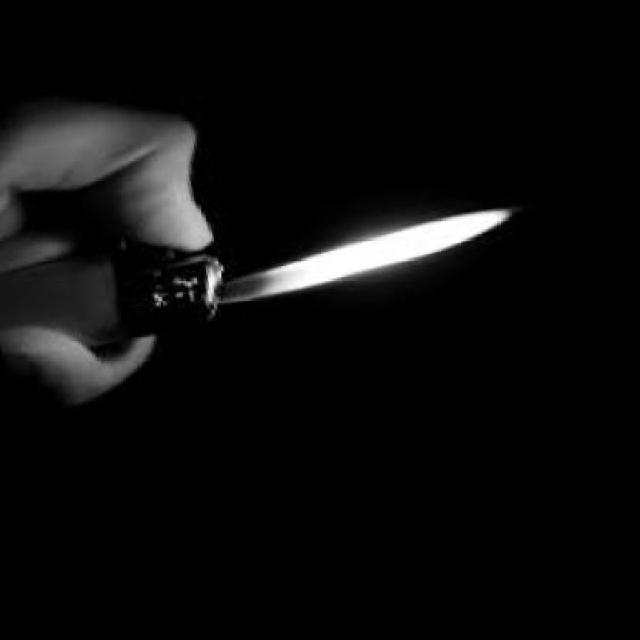Fire: (223, 208, 521, 308)
